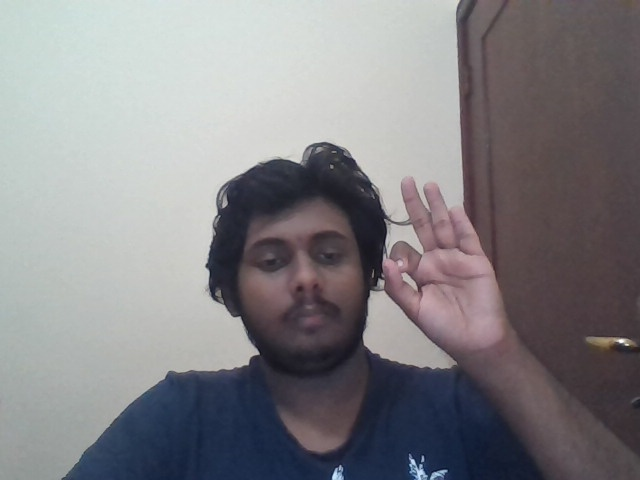ok: (383, 177, 506, 354)
